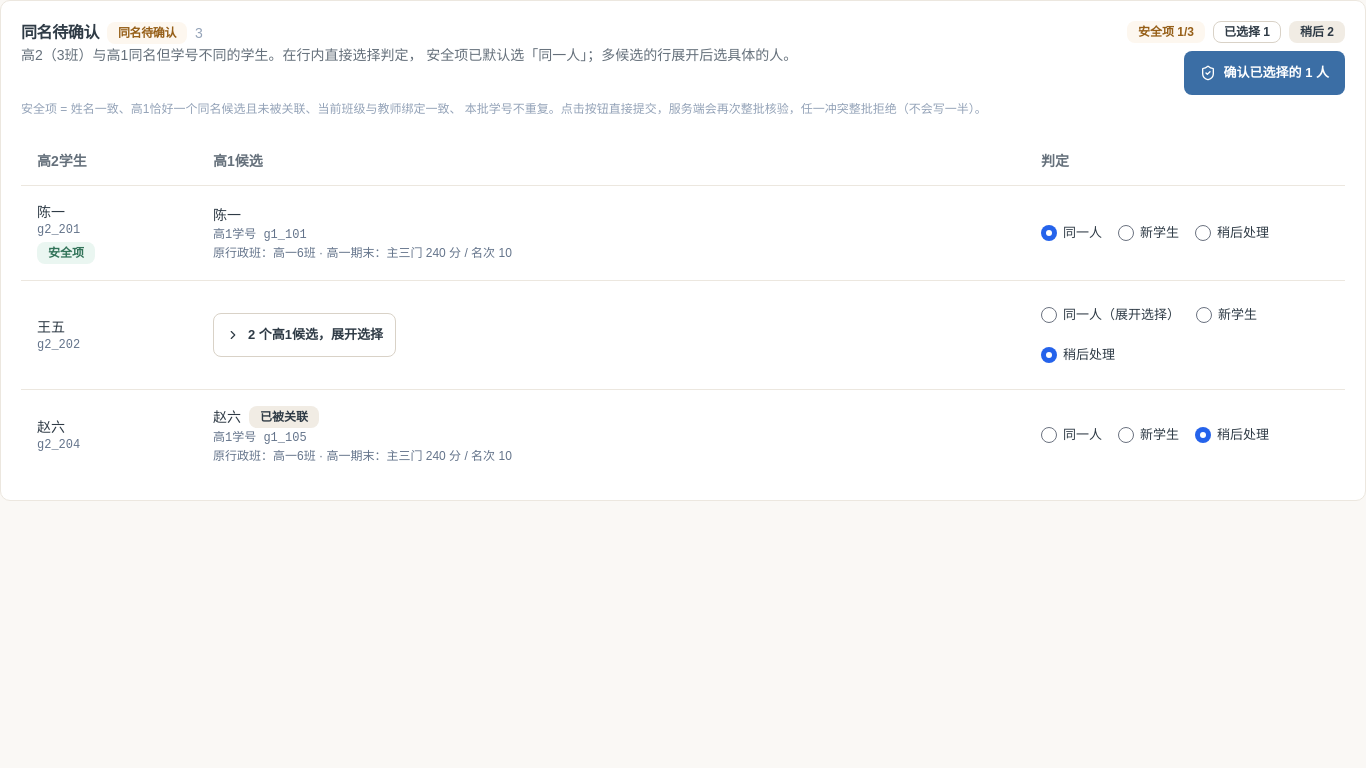
AmbiguousBatchCard 行内批量确认 › 多候选行内展开选择；已被关联的候选择不可选
The image size is (1366, 768).
桌面表格与移动卡片各渲染一份展开按钮，取桌面（第一份）
Step 1. Click the button "2 个高1候选，展开选择" → (305, 334), box [213,312,396,356]
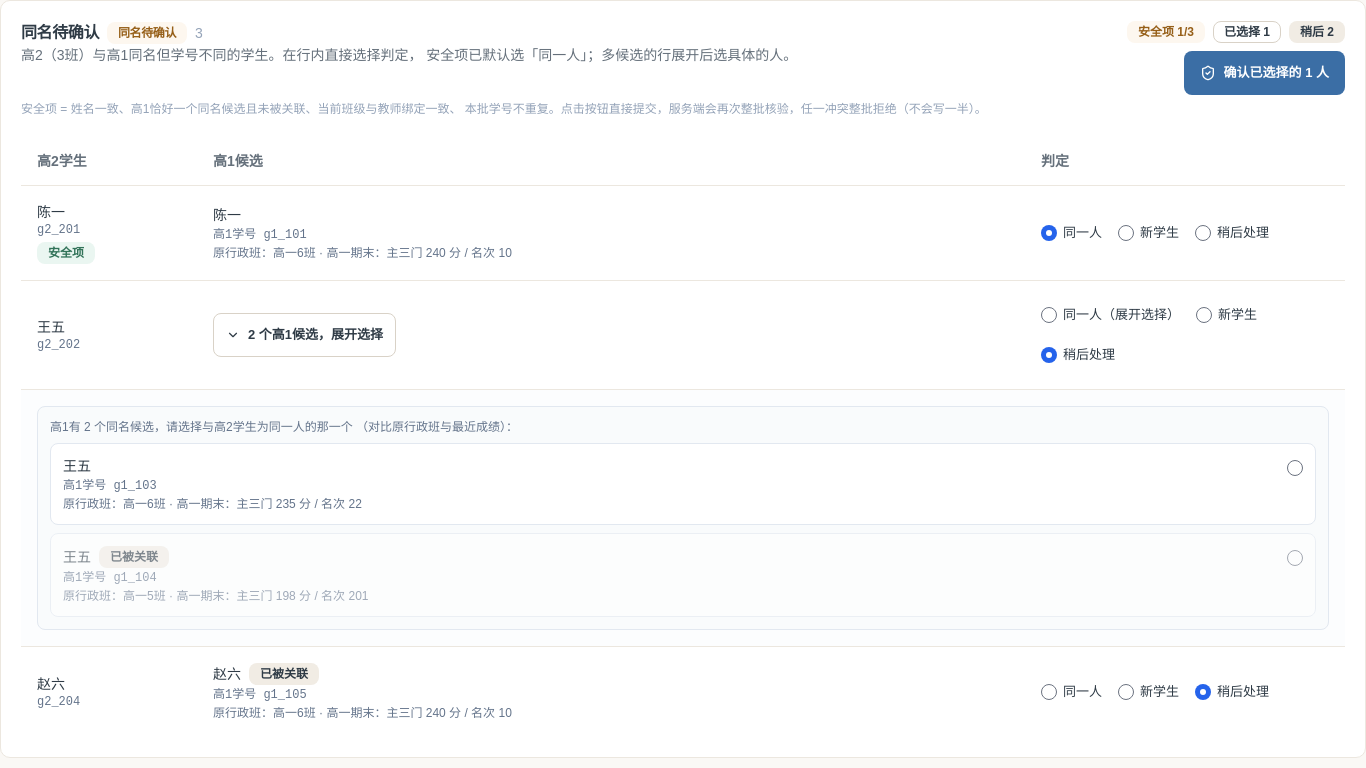
Now the radio button with id "confirm-g2_202-cand-g1_104" is disabled, box [1287,550,1303,566]
Step 2. Click the radio button with id "confirm-g2_202-cand-g1_103" → (1295, 468), box [1287,460,1303,476]
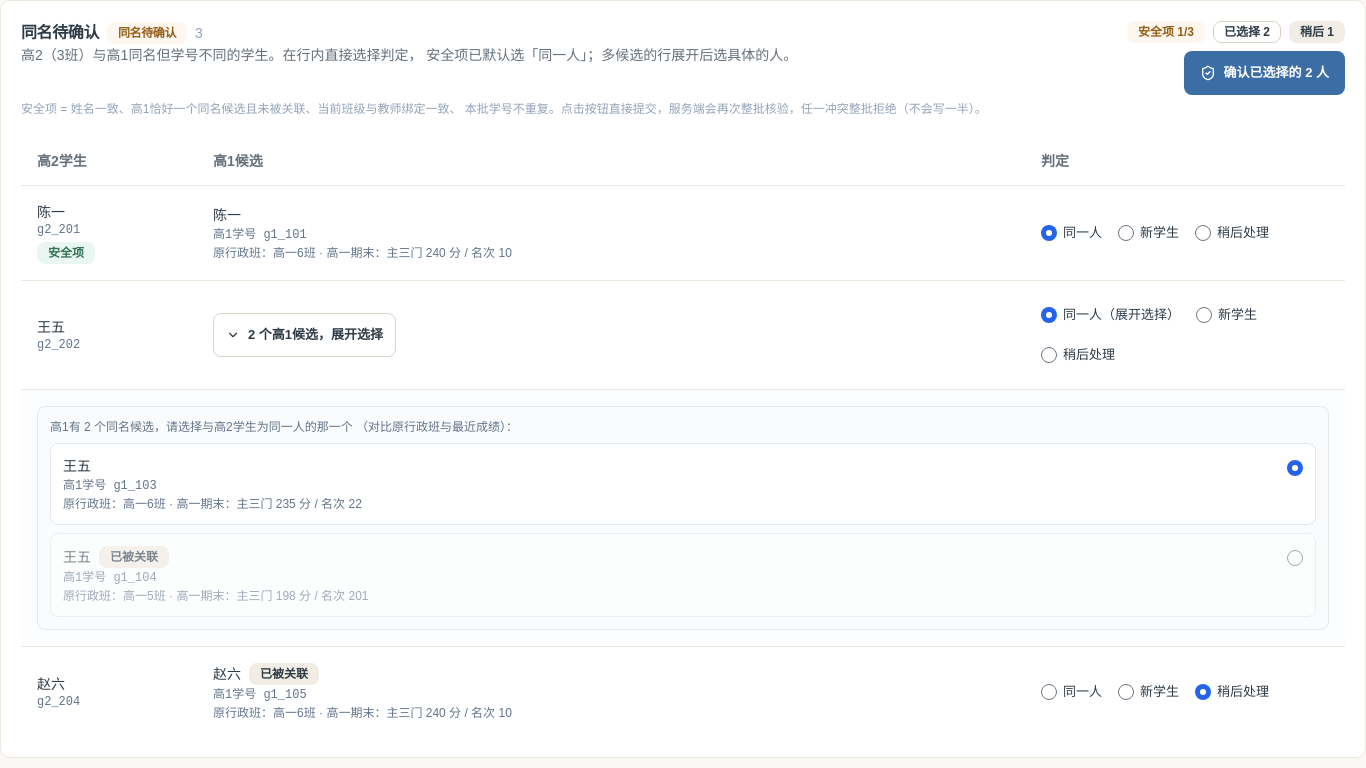
Now the radio button with id "confirm-g2_202-cand-g1_103" is checked, box [1287,460,1303,476]
Now the radio button with id "confirm-g2_202-later" is not checked, box [1041,346,1057,362]
Now the text "已选择 2" is shown, box [1213,21,1281,43]
